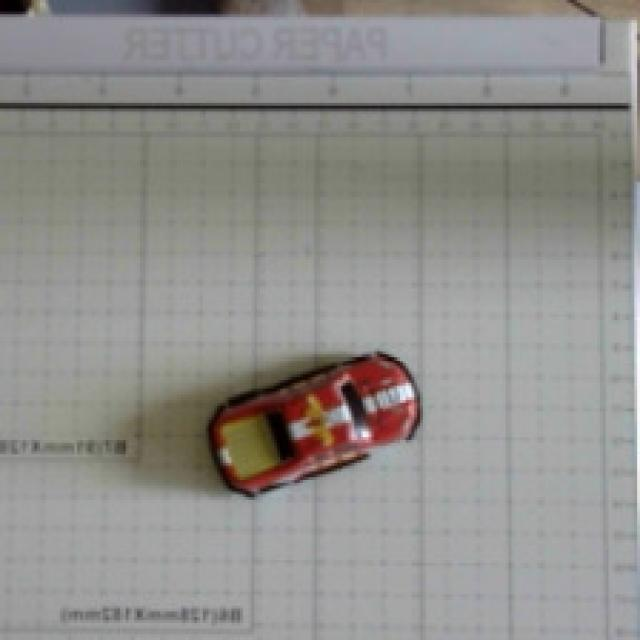Red Car: (197, 289, 482, 529)
